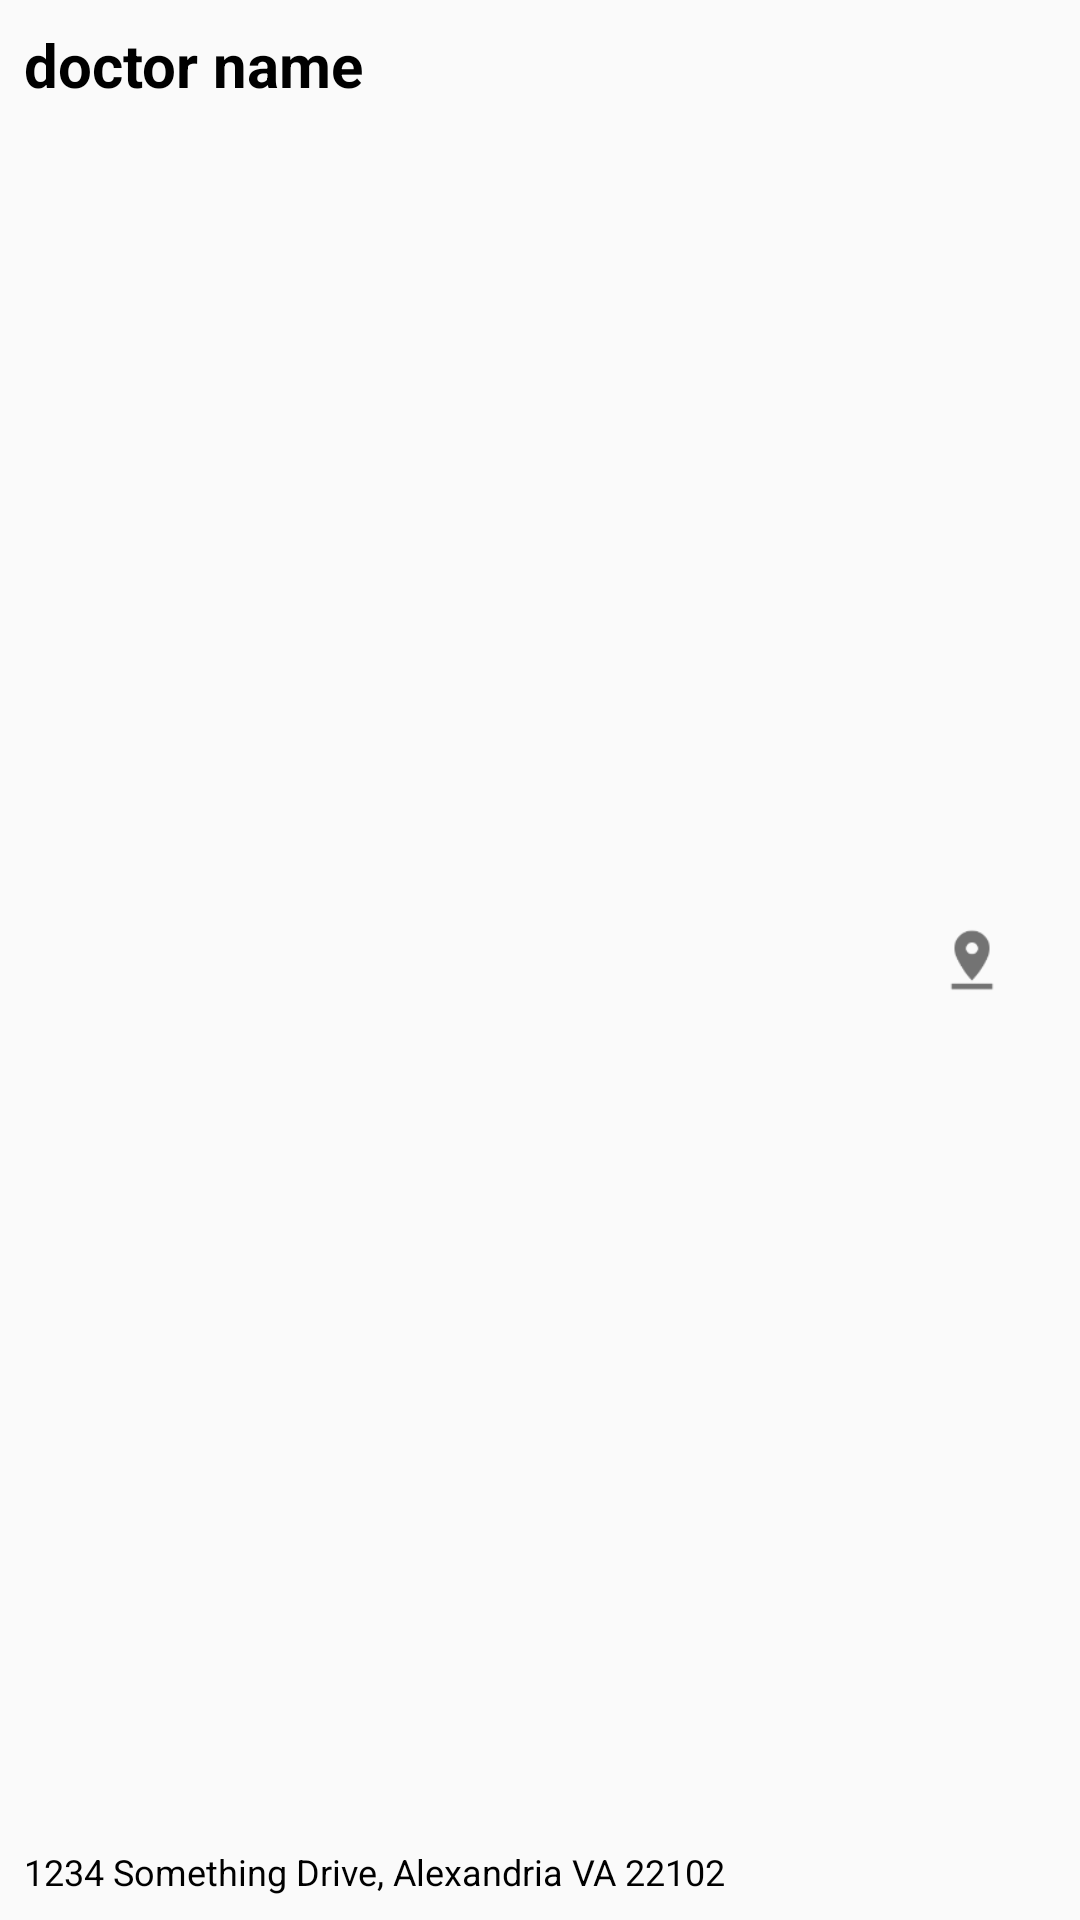

Point at icon controls on the screen. Image size 1080×1920, points as (x=x, y=y).
navigation pin: (x=972, y=960)
